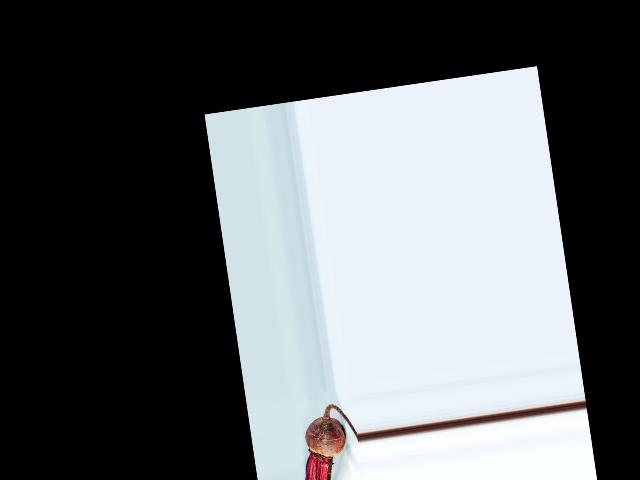beet: (294, 401, 363, 480)
